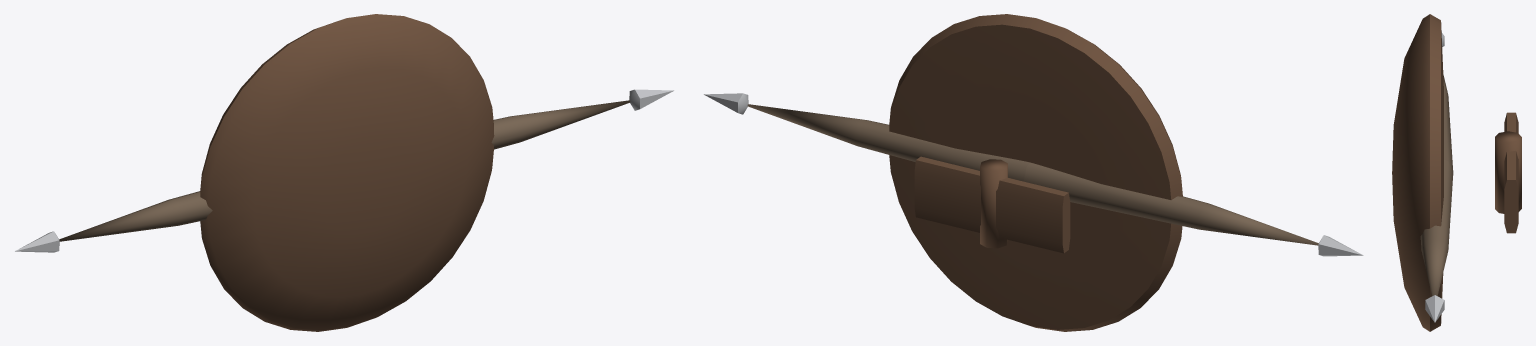
Rendered from madu.glb.
3 views of the same model, side by side, from view 1: azimuth 30°, elevation 25°; view 2: azimuth 150°, elevation 25°; view 3: azimuth 270°, elevation 25° (orthographic). The views are drawn at different scales.
Parts seen in each view (by area): view 1: madu; view 2: madu; view 3: madu.
Boxes of the visible parts, left/top/right/bottom form: madu: left=15, top=14, right=674, bottom=331; madu: left=704, top=14, right=1363, bottom=331; madu: left=1392, top=14, right=1521, bottom=331.
Bounding box in the file's own units: 1.16 × 0.52 × 0.212.
